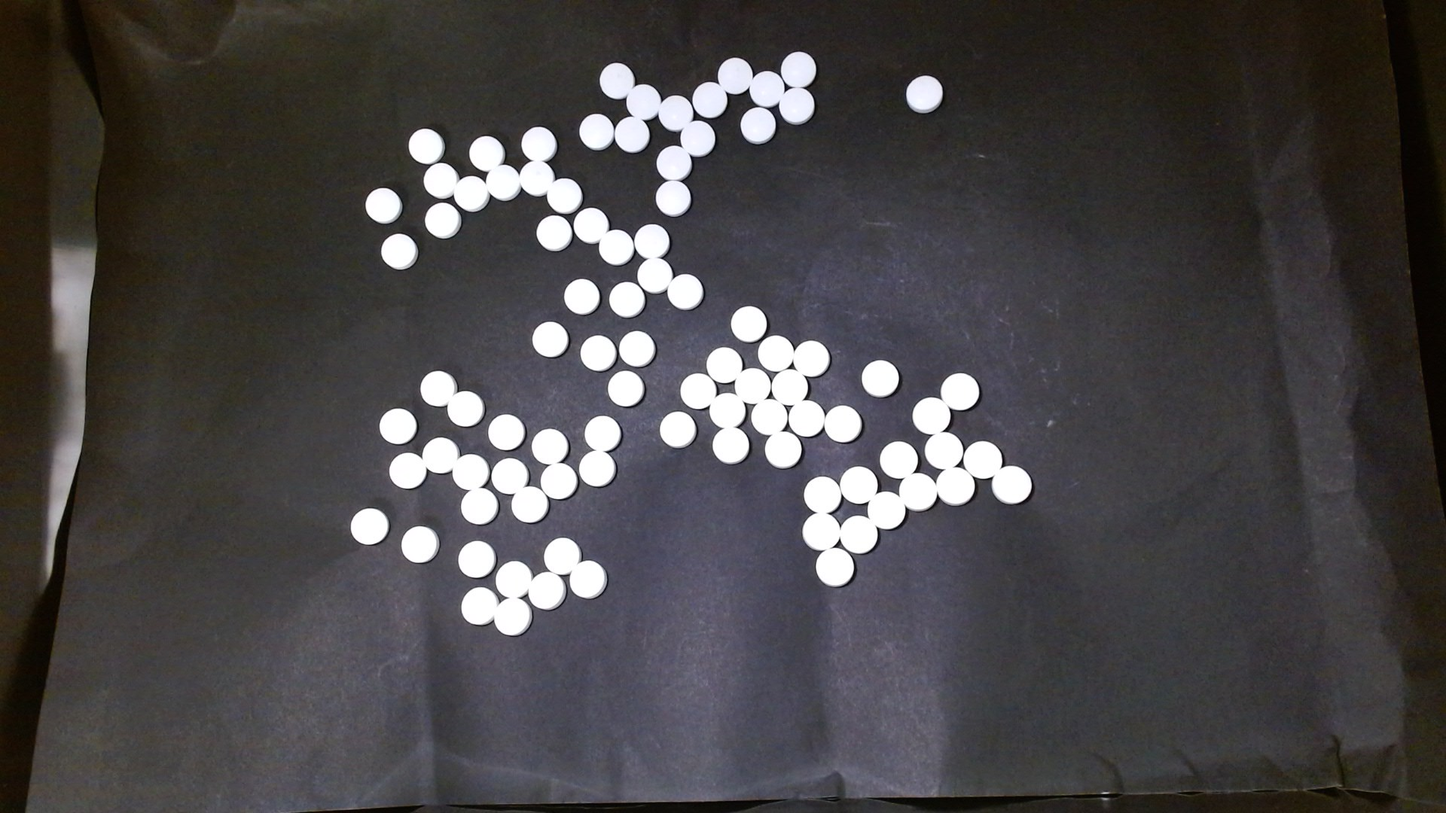Circle: (992, 464, 1033, 505), (815, 547, 855, 587), (422, 436, 462, 475), (940, 371, 980, 410), (568, 559, 607, 599), (349, 507, 389, 546), (493, 596, 532, 636), (377, 406, 416, 445), (457, 539, 496, 578), (936, 467, 975, 506), (899, 472, 937, 512), (494, 559, 532, 598), (802, 513, 841, 551), (839, 514, 877, 553), (460, 587, 498, 626), (912, 396, 950, 434), (824, 405, 862, 443), (388, 452, 426, 490), (460, 487, 498, 525), (712, 426, 750, 464), (861, 359, 899, 397), (400, 525, 438, 563), (792, 339, 831, 376), (880, 440, 917, 479), (963, 440, 1002, 477), (528, 571, 565, 610), (905, 75, 944, 112), (757, 334, 794, 372), (419, 370, 457, 407), (452, 453, 489, 491), (488, 413, 525, 451), (580, 334, 617, 372), (578, 450, 616, 487), (839, 466, 877, 503), (803, 475, 840, 513), (543, 537, 581, 574), (764, 431, 802, 468), (659, 411, 697, 448), (532, 320, 569, 358), (380, 233, 418, 270), (654, 180, 691, 217), (618, 330, 655, 367), (584, 413, 621, 450), (491, 457, 528, 494), (540, 463, 577, 500), (749, 69, 785, 107), (578, 113, 614, 151), (780, 50, 816, 88), (599, 61, 635, 99), (709, 392, 746, 428), (637, 257, 673, 294), (925, 432, 961, 469), (751, 398, 788, 434), (779, 87, 815, 124), (667, 273, 703, 310), (613, 116, 649, 153), (740, 107, 776, 144), (535, 215, 572, 251), (532, 428, 569, 464), (563, 278, 599, 315), (407, 126, 443, 163), (731, 304, 767, 341), (511, 487, 548, 523), (869, 492, 905, 529), (706, 346, 742, 382), (789, 400, 825, 436), (598, 229, 634, 265), (609, 281, 645, 317), (608, 370, 644, 406), (365, 187, 401, 223), (453, 175, 488, 212), (717, 56, 752, 93), (519, 160, 554, 196), (423, 163, 459, 198), (735, 368, 771, 403), (634, 223, 670, 258), (657, 95, 692, 131), (447, 391, 482, 427), (424, 202, 460, 237), (520, 126, 556, 161), (680, 373, 716, 408), (656, 145, 691, 181), (679, 120, 713, 157), (469, 135, 504, 170), (772, 368, 807, 403), (574, 207, 609, 242), (692, 81, 726, 116), (487, 165, 520, 199), (547, 179, 579, 212), (627, 85, 658, 119)
